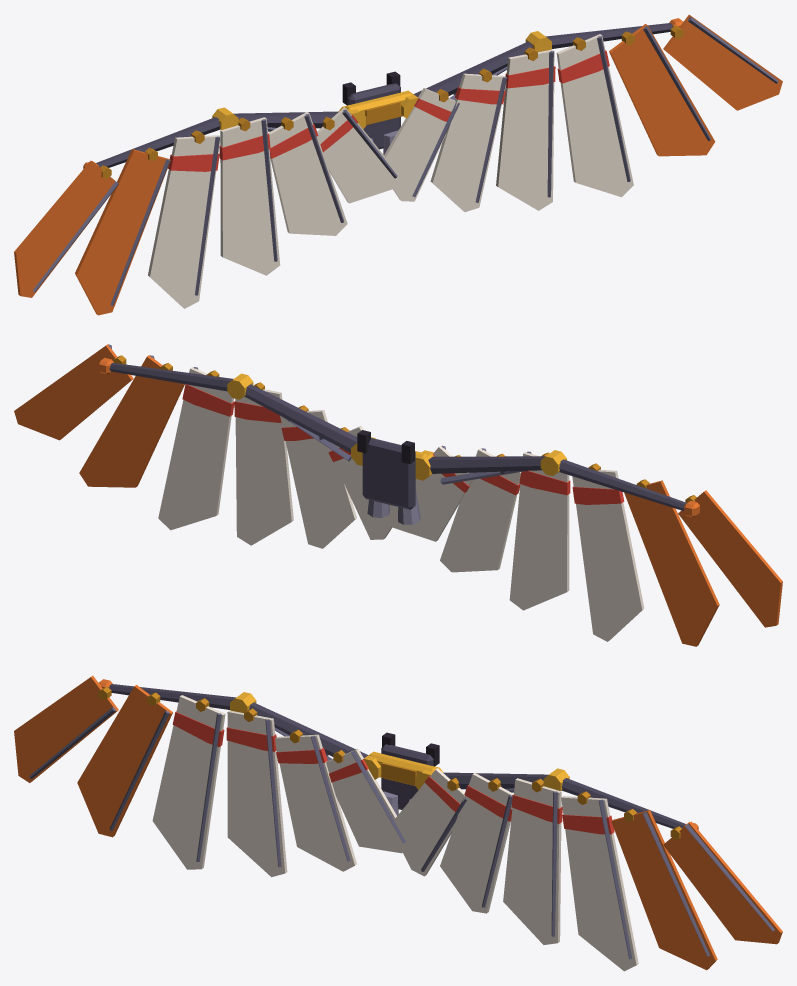
The model's file is wings.glb.
The picture shows the model from 3 angles, top to bottom: view 1: azimuth 30°, elevation 25°; view 2: azimuth 150°, elevation 25°; view 3: azimuth 330°, elevation 25°; orthographic projection.
Visible parts, largest first — view 1: wing_l_f4, wing_r_f4, wing_l_f3, wing_r_f3, wing_l_f5, wing_r_f5, wing_r_f2, wing_l_f2, wing_l_f6, wing_r_f6, wing_l_f1, wing_r_f1 (+5 smaller); view 2: wing_l_f4, wing_r_f4, wing_l_f3, wing_r_f3, wing_l_f5, wing_r_f5, wing_l_f2, wing_l_f6, wing_r_f2, wing_r_f6, harness, wing_l_f1 (+5 smaller); view 3: wing_r_f4, wing_l_f4, wing_l_f3, wing_r_f3, wing_r_f5, wing_l_f5, wing_l_f2, wing_r_f2, wing_r_f6, wing_l_f6, wing_r_f1, wing_l_f1 (+5 smaller).
Part boxes in pixels (box(x1,y1,x2,y2)): wing_l_f4: box(148, 130, 220, 308); wing_r_f4: box(556, 34, 633, 197); wing_l_f3: box(219, 117, 280, 275); wing_r_f3: box(496, 47, 555, 210); wing_l_f5: box(75, 148, 170, 315); wing_r_f5: box(609, 24, 715, 156); wing_r_f2: box(430, 68, 506, 212); wing_l_f2: box(268, 111, 347, 235); wing_l_f6: box(14, 160, 118, 297); wing_r_f6: box(663, 14, 782, 110); wing_l_f1: box(317, 107, 400, 203); wing_r_f1: box(384, 88, 459, 201); wing_l_f4: box(572, 463, 644, 641); wing_r_f4: box(158, 367, 234, 530); wing_l_f3: box(509, 451, 570, 610); wing_r_f3: box(234, 382, 293, 545); wing_l_f5: box(624, 479, 719, 646); wing_r_f5: box(79, 355, 184, 487); wing_l_f2: box(440, 448, 521, 572); wing_l_f6: box(678, 490, 782, 627); wing_r_f2: box(280, 405, 356, 548); wing_r_f6: box(14, 344, 133, 440); harness: box(357, 430, 427, 524); wing_l_f1: box(388, 445, 472, 541); wing_r_f4: box(561, 791, 638, 971); wing_l_f4: box(152, 695, 225, 869); wing_l_f3: box(226, 708, 287, 877); wing_r_f3: box(503, 778, 562, 944); wing_r_f5: box(611, 809, 717, 970); wing_l_f5: box(77, 685, 172, 837); wing_l_f2: box(275, 729, 356, 871); wing_r_f2: box(440, 772, 513, 913); wing_r_f6: box(663, 821, 782, 944); wing_l_f6: box(14, 675, 118, 782); wing_r_f1: box(389, 768, 466, 876); wing_l_f1: box(326, 749, 405, 853).
Bounding box in the file's own units: 4.5 × 1.01 × 0.255.
